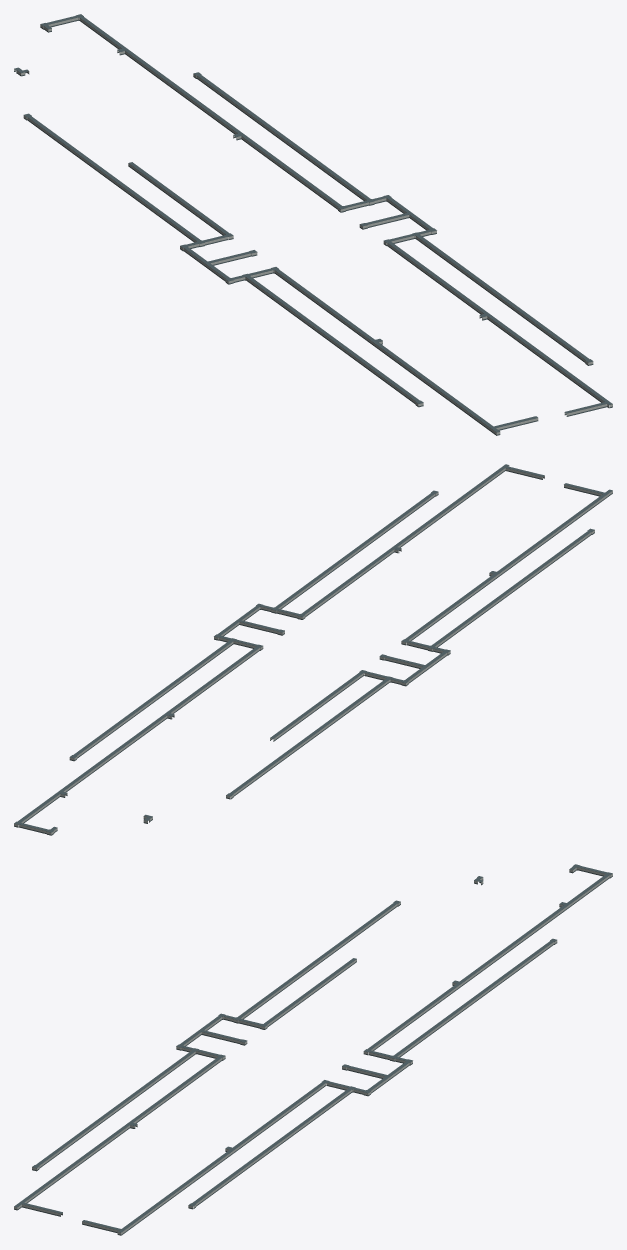
The model's file is AST-STF-010.glb.
The picture shows the model from 3 angles, top to bottom: view 1: azimuth 30°, elevation 25°; view 2: azimuth 150°, elevation 25°; view 3: azimuth 330°, elevation 25°; orthographic projection. The views are drawn at different scales.
Bounding box in the file's own units: 211 × 3.34 × 935.
5 materials, 5 textured.
